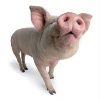heo: (26, 2, 93, 64)
